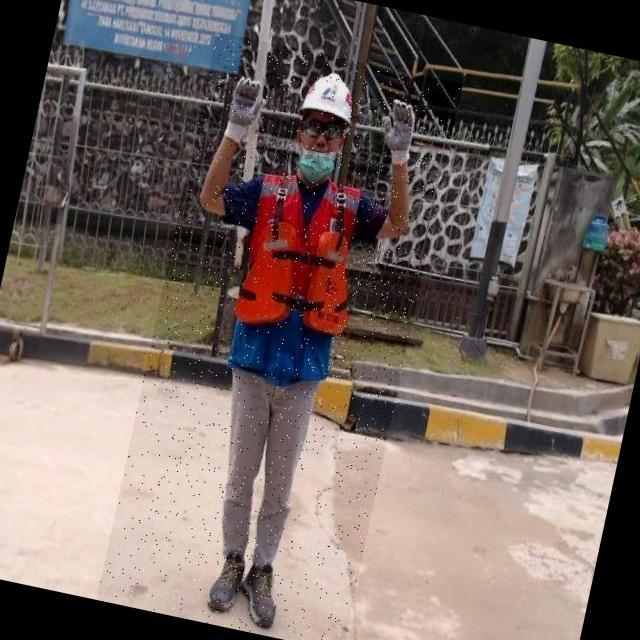Helmet: (294, 66, 363, 129)
Human: (96, 31, 462, 640)
Safety Boot: (230, 559, 292, 635), (204, 545, 247, 616)
Safety Vest: (222, 167, 375, 389)
